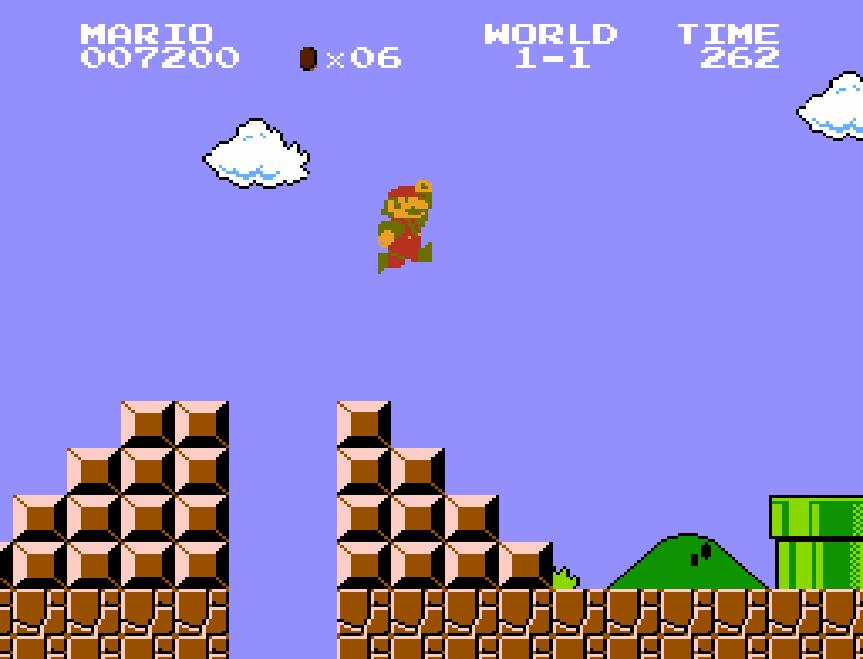big_mario: (376, 177, 434, 275)
